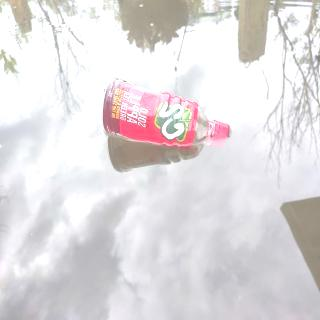bottle: (99, 74, 233, 150)
